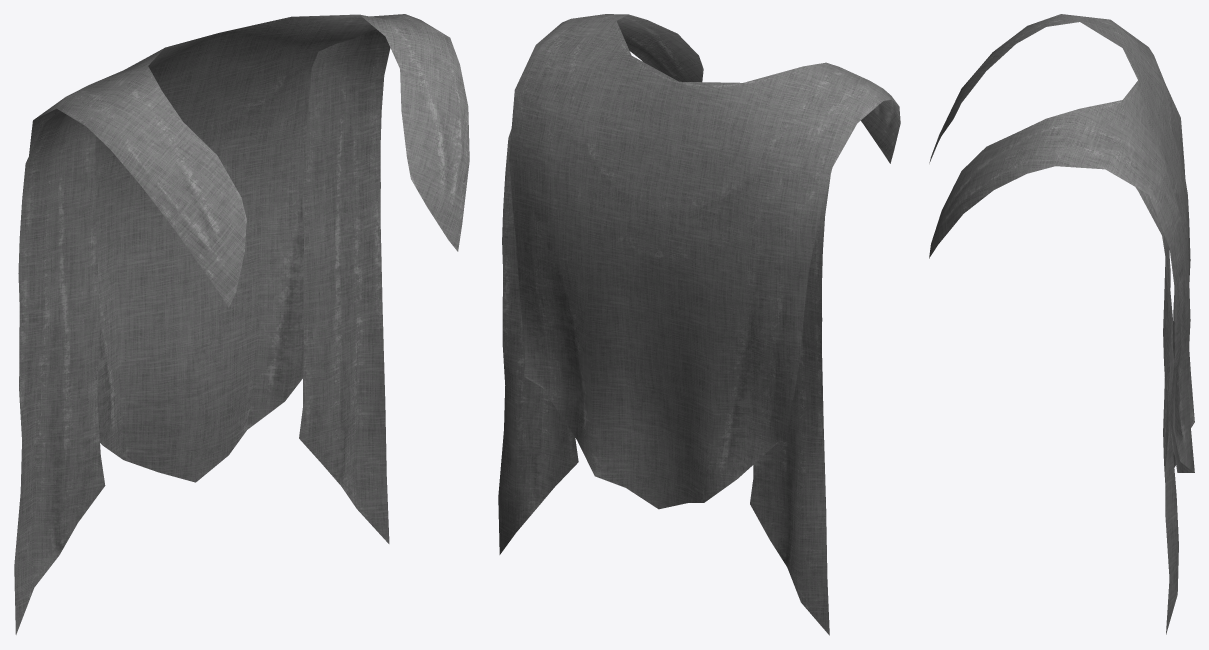
The model's file is easterling_cape.fbx.
The picture shows the model from 3 angles, left to right: view 1: azimuth 30°, elevation 25°; view 2: azimuth 150°, elevation 25°; view 3: azimuth 270°, elevation 25°; orthographic projection. The views are drawn at different scales.
Parts seen in each view (by area): view 1: easterling_cape; view 2: easterling_cape; view 3: easterling_cape.
Boxes of the visible parts, x1,y1,x2,y2 form: easterling_cape: [14, 14, 469, 634]; easterling_cape: [498, 14, 900, 635]; easterling_cape: [929, 14, 1194, 634].
Bounding box in the file's own units: 0.4298 × 0.315 × 0.6458.
1 material, 1 textured.
